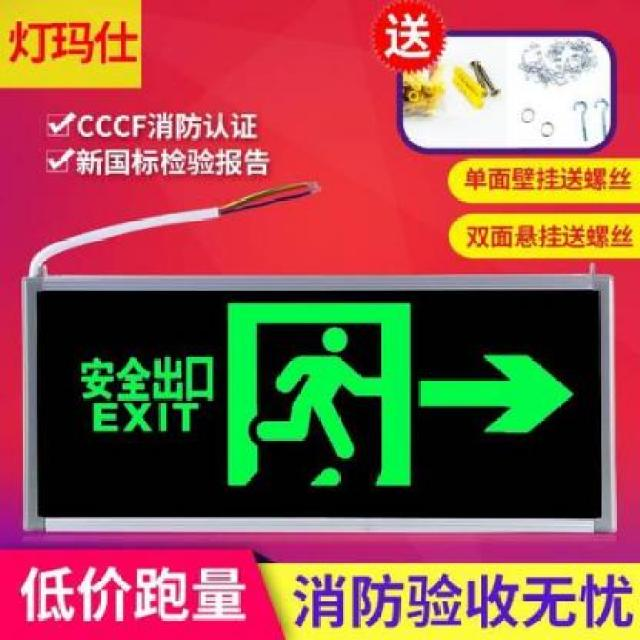exit_sign: (26, 290, 601, 528)
